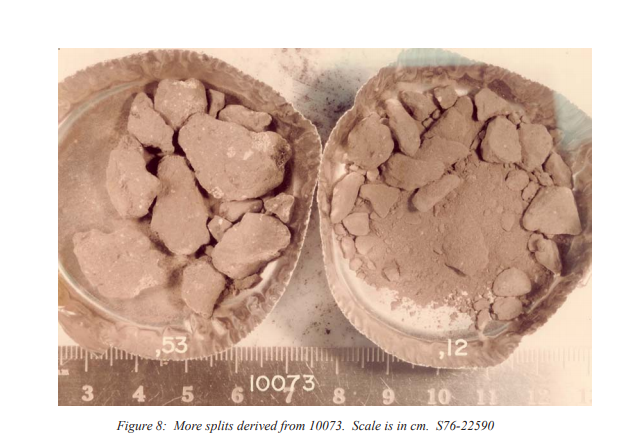Breccia: (115, 111, 286, 315), (406, 119, 545, 292)
